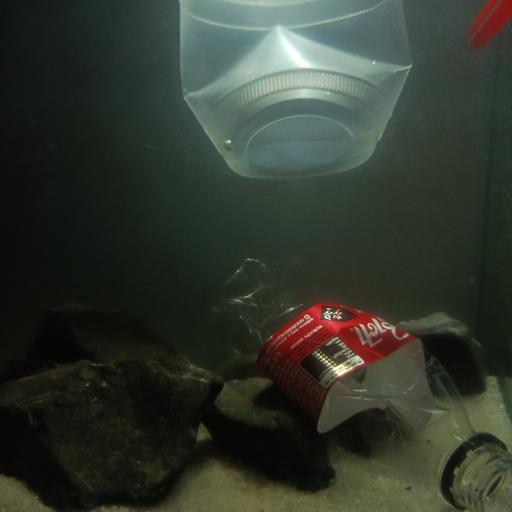plastic_bottle: (203, 251, 512, 512)
plastic_cup: (181, 0, 414, 178)
plastic_straw: (465, 0, 512, 50)
